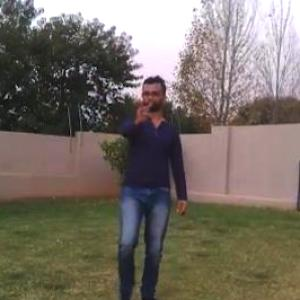takeoff-hand: (126, 91, 154, 132)
